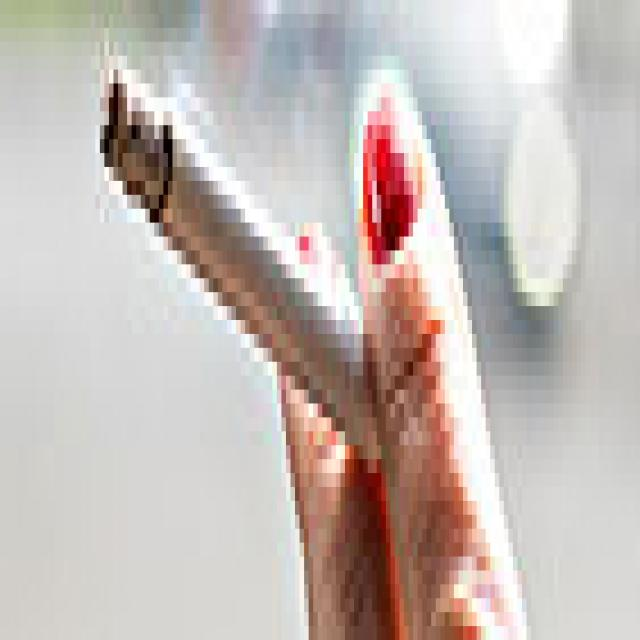smoking: (104, 53, 393, 460)
